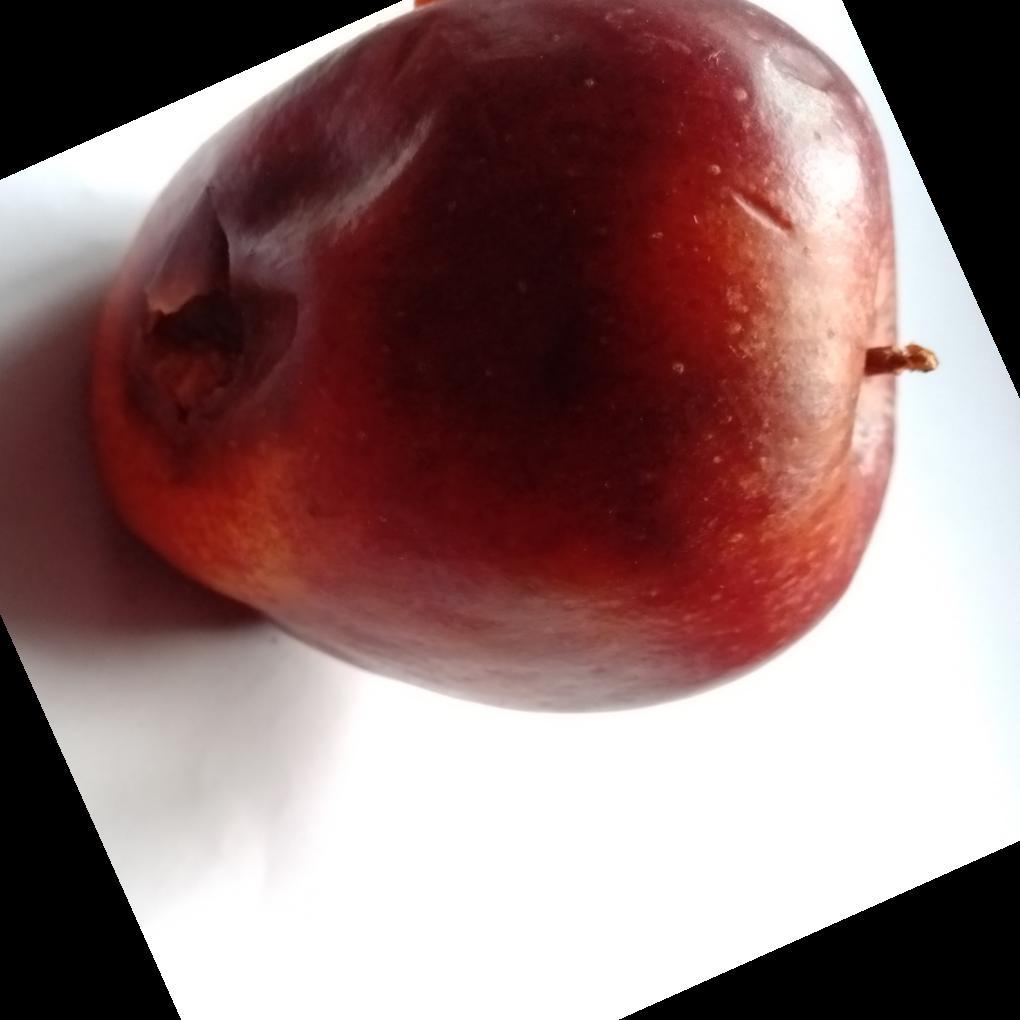FreshOrange: (86, 0, 939, 719)
